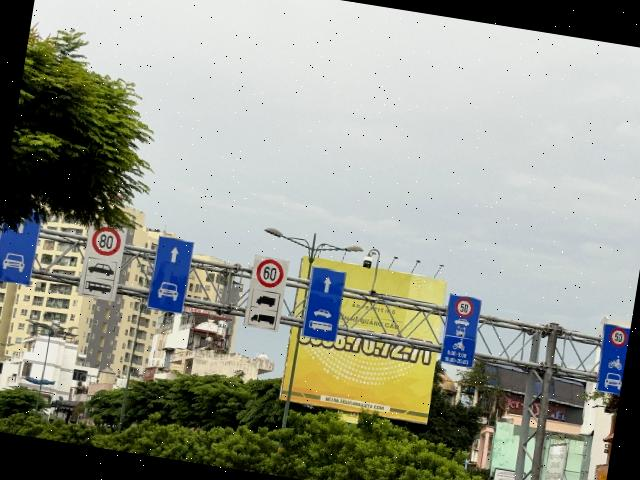toc-do-toi-da-cho-phep: (89, 224, 123, 259), (253, 256, 286, 290), (607, 325, 629, 349), (454, 298, 474, 318)
